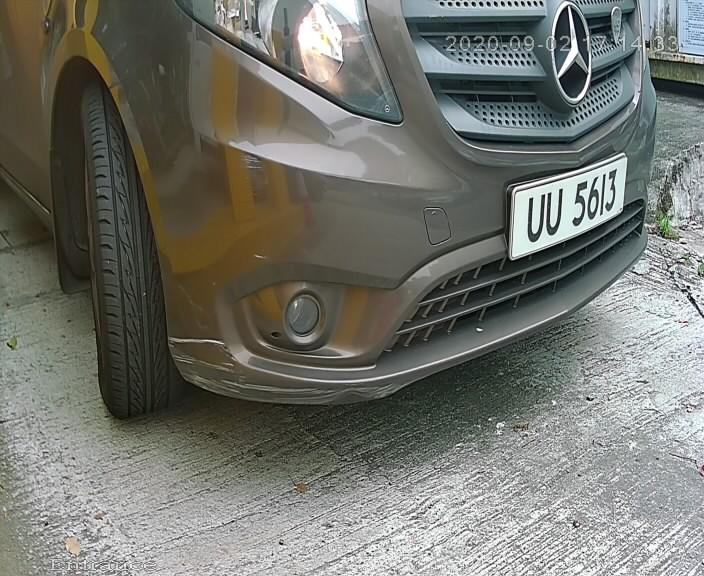Car: (35, 1, 704, 463)
License Plate: (500, 155, 632, 268)
